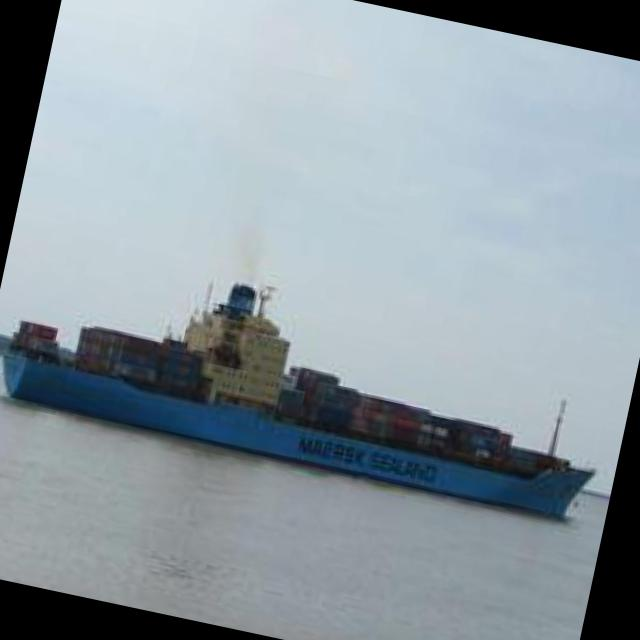boat: (0, 271, 627, 532)
